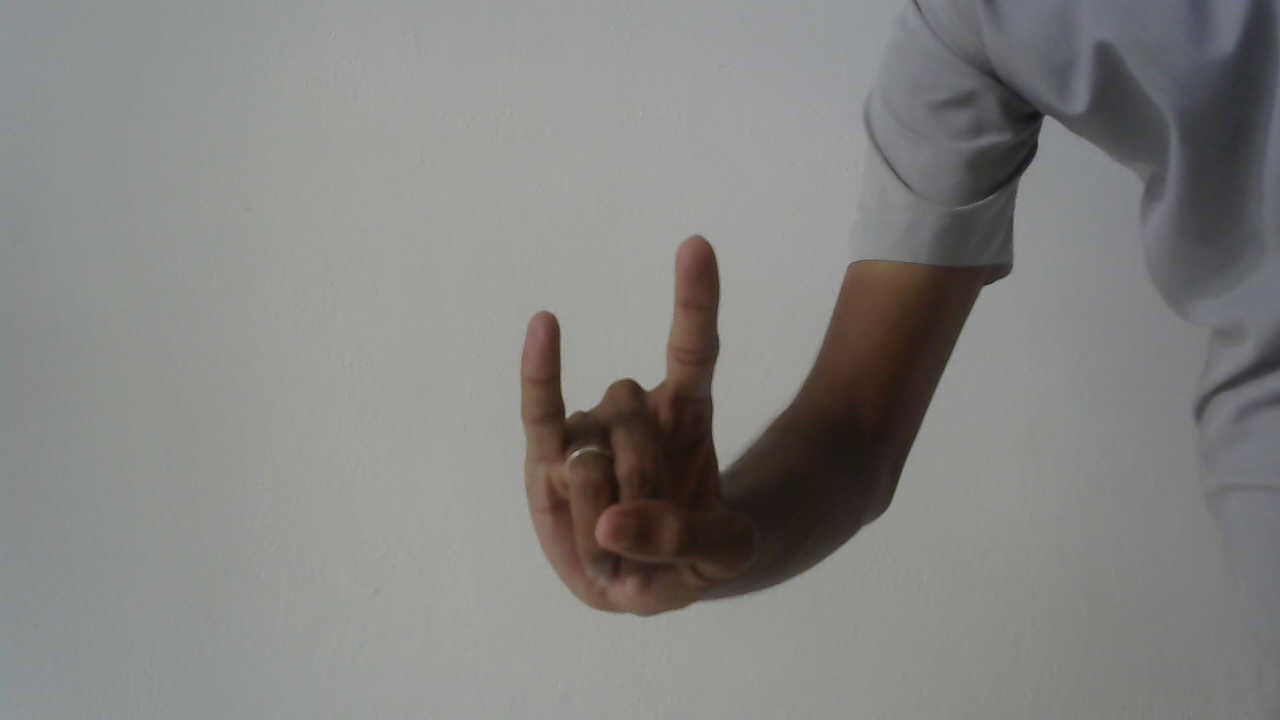iloveyou: (509, 225, 774, 630)
